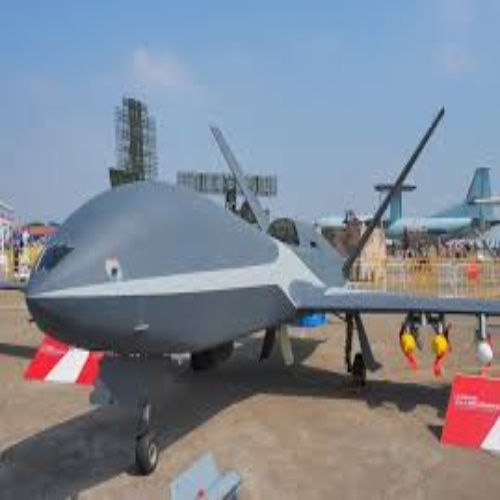uav: (4, 112, 499, 468)
